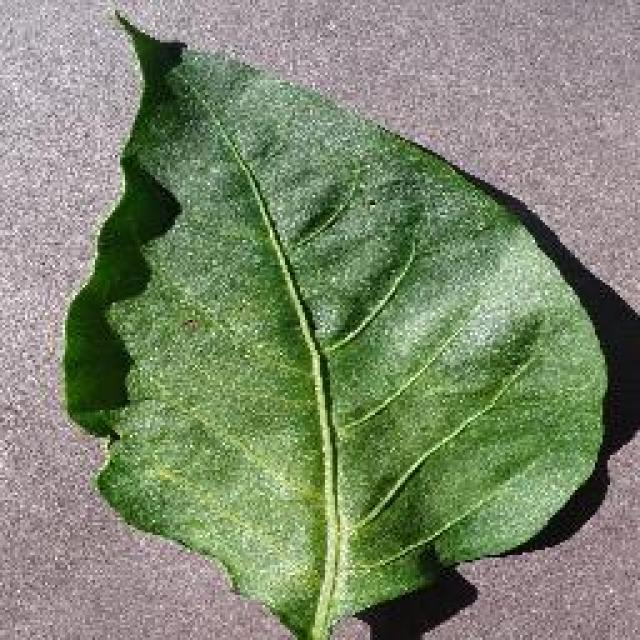Leaf: (36, 19, 626, 638)
